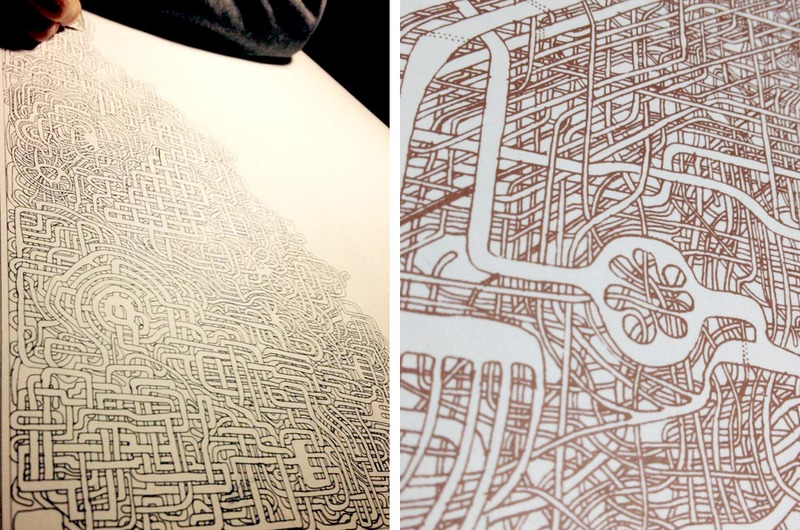maze: (405, 3, 796, 528), (18, 323, 367, 530), (7, 154, 271, 318)
